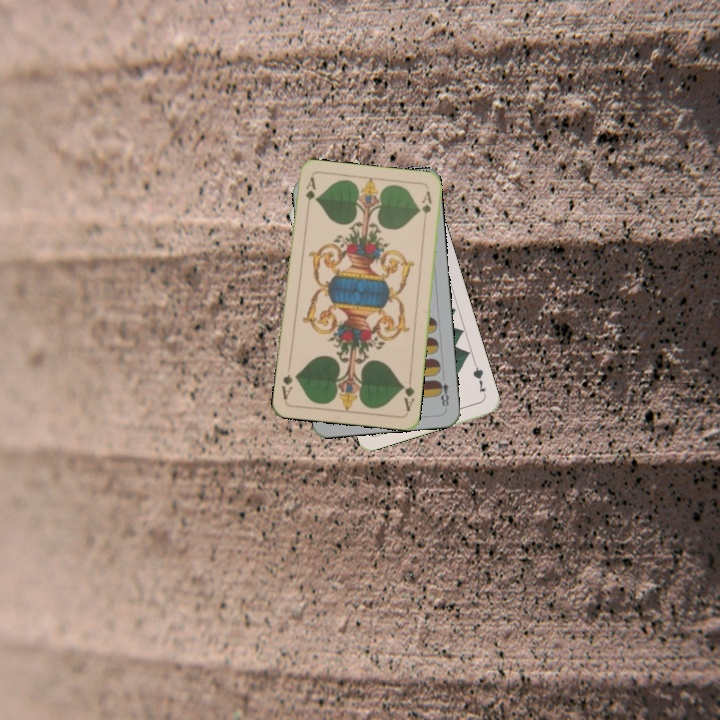E8: (433, 376, 451, 409)
G7: (469, 360, 489, 395)
GA: (398, 374, 417, 414), (301, 174, 318, 214)
